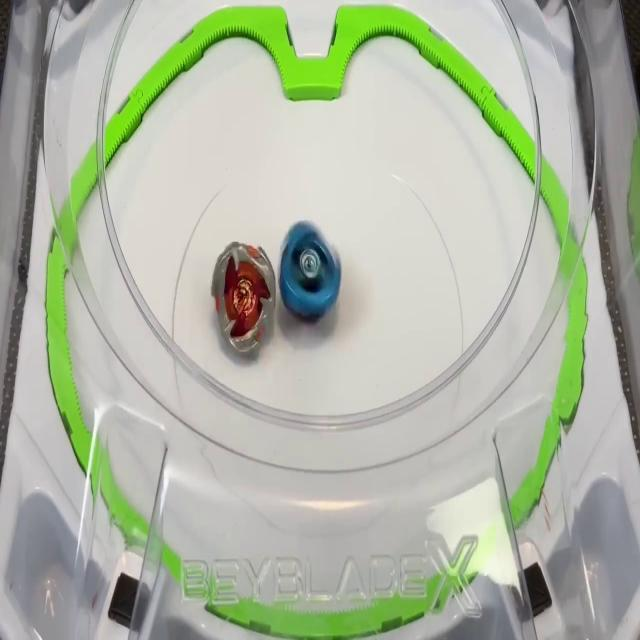Beyblade: (211, 241, 276, 354), (278, 221, 341, 321)
